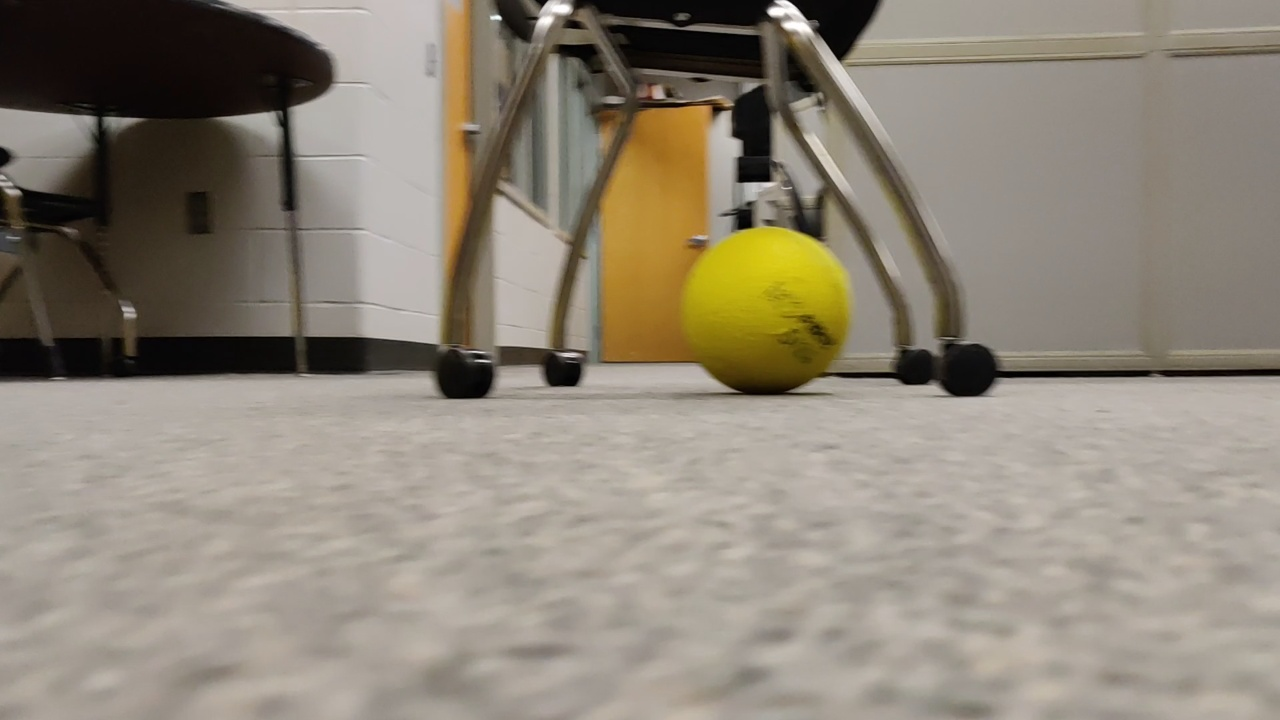Ball: (676, 220, 852, 402)
